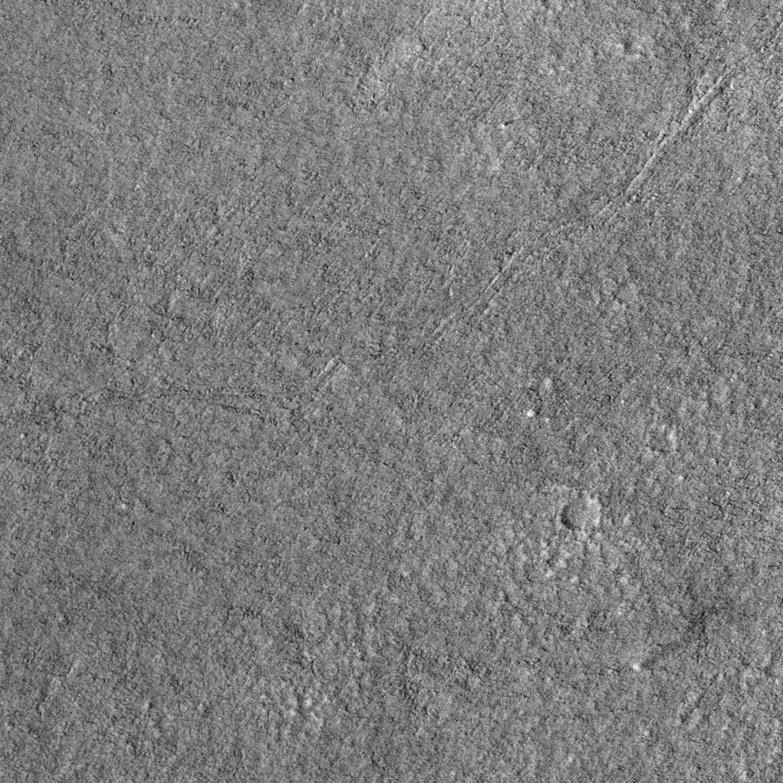dust_devil: (629, 611, 710, 675)
